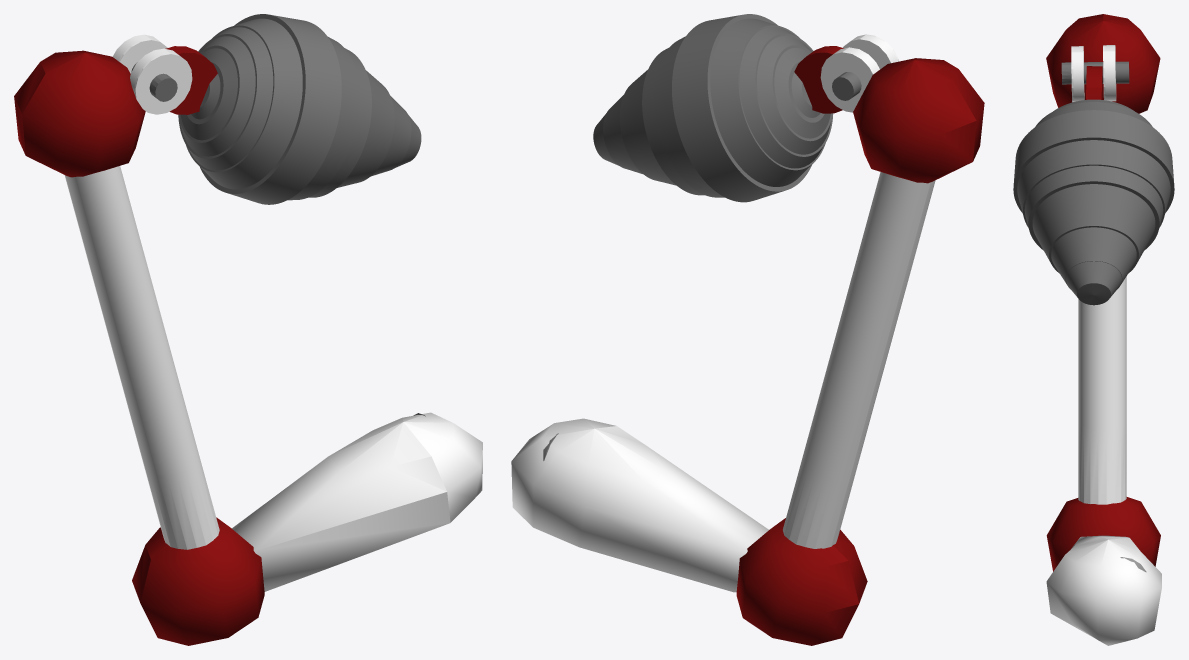
The model's file is ThrowerStatics.FBX.
3 renders of one model, left to right at view 1: azimuth 30°, elevation 25°; view 2: azimuth 150°, elevation 25°; view 3: azimuth 270°, elevation 25°, orthographic. The views are drawn at different scales.
Parts seen in each view (by area): view 1: Line001, len, Stem, upperspear, lowerspear, Cylinder01, Cylinder00, Cylinder01.Cylinder02; view 2: Line001, len, Stem, upperspear, lowerspear, Cylinder01.Cylinder02, Cylinder00, Cylinder01; view 3: Line001, Stem, len, upperspear, lowerspear, Cylinder04, Cylinder01.Cylinder02, Cylinder01, Cylinder00.
Boxes of the visible parts, x1,y1,x2,y2 form: Line001: (178, 14, 421, 204); len: (232, 412, 482, 591); Stem: (64, 166, 219, 549); upperspear: (14, 50, 145, 177); lowerspear: (132, 517, 264, 645); Cylinder01: (130, 48, 192, 114); Cylinder00: (165, 46, 217, 114); Cylinder01.Cylinder02: (112, 34, 167, 73); Line001: (593, 14, 833, 202); len: (511, 418, 768, 592); Stem: (783, 172, 935, 548); upperspear: (853, 58, 984, 183); lowerspear: (736, 518, 867, 645); Cylinder01.Cylinder02: (820, 47, 879, 112); Cylinder00: (794, 46, 843, 113); Cylinder01: (843, 34, 899, 69); Line001: (1013, 99, 1174, 305); Stem: (1078, 276, 1126, 504); len: (1046, 535, 1161, 645); upperspear: (1046, 14, 1160, 113); lowerspear: (1046, 497, 1160, 571); Cylinder04: (1061, 61, 1129, 84); Cylinder01.Cylinder02: (1103, 45, 1116, 101); Cylinder01: (1071, 46, 1084, 102); Cylinder00: (1086, 66, 1102, 99).
Size of the model in its own units: 3.13 by 4.06 by 1.12.
